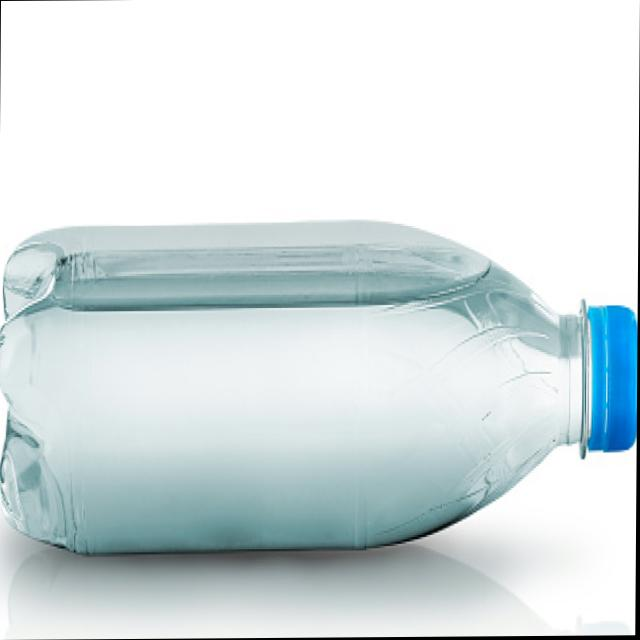bottle: (0, 207, 639, 570)
